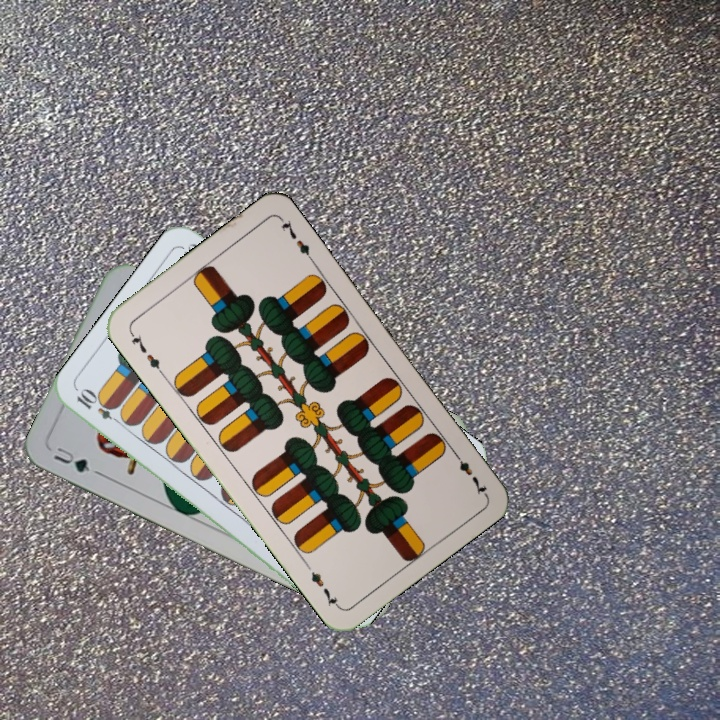E10: (72, 386, 126, 428)
E7: (448, 446, 489, 498), (125, 327, 166, 378)
GU: (49, 443, 102, 478)
